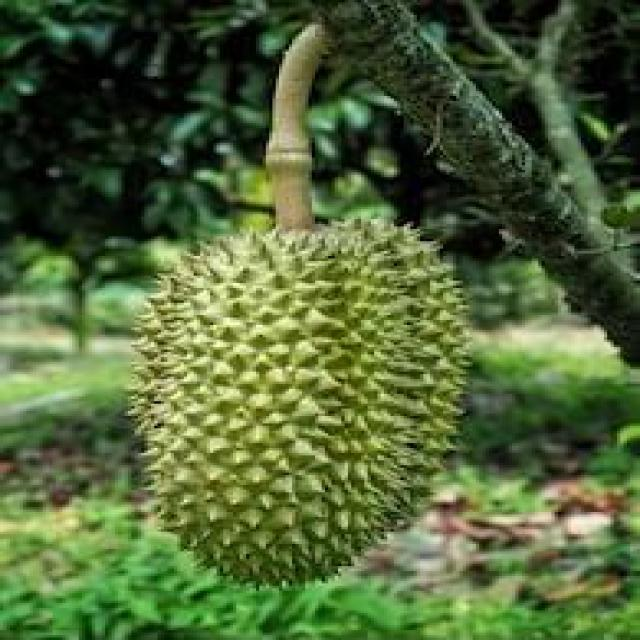immature: (132, 217, 476, 590)
